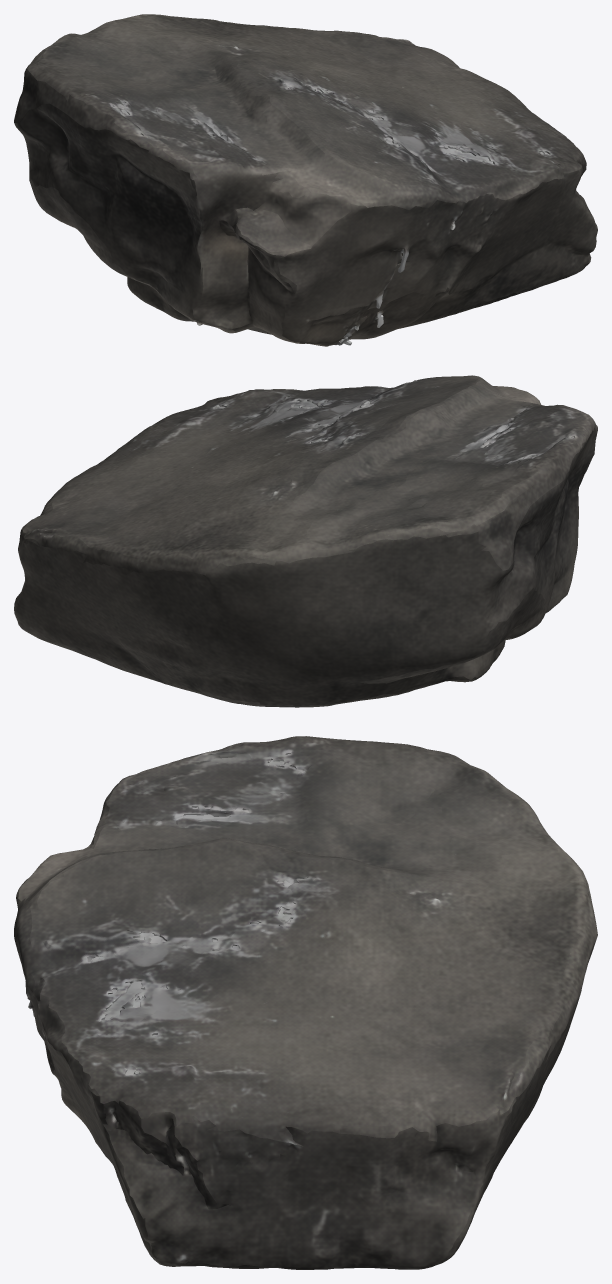
Rendered from tex_mesh.glb.
The picture shows the model from 3 angles, top to bottom: view 1: azimuth 30°, elevation 25°; view 2: azimuth 150°, elevation 25°; view 3: azimuth 270°, elevation 25°; orthographic projection. The views are drawn at different scales.
Parts seen in each view (by area): view 1: world; view 2: world; view 3: world.
Part boxes in pixels (x1=…): world: x1=14, y1=14, x2=597, y2=346; world: x1=14, y1=375, x2=597, y2=707; world: x1=14, y1=736, x2=597, y2=1269.
Size of the model in its own units: 0.45 by 0.217 by 0.4102.
Materials: 1 (1 with a texture image).
